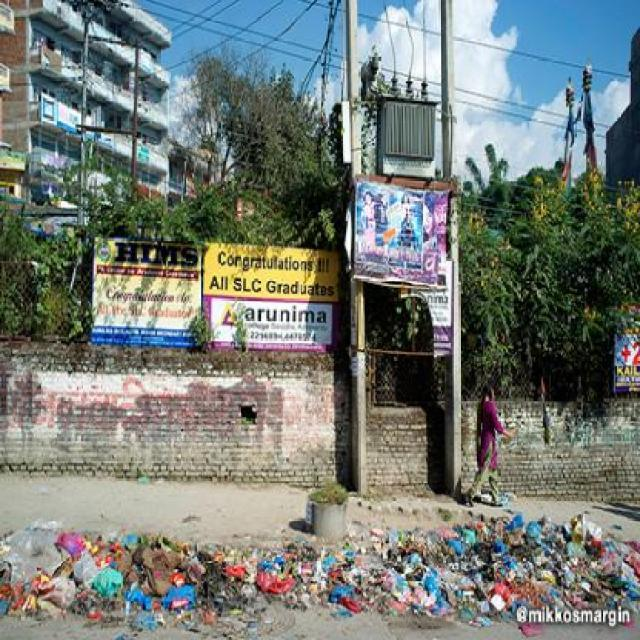garbage: (0, 519, 638, 616)
